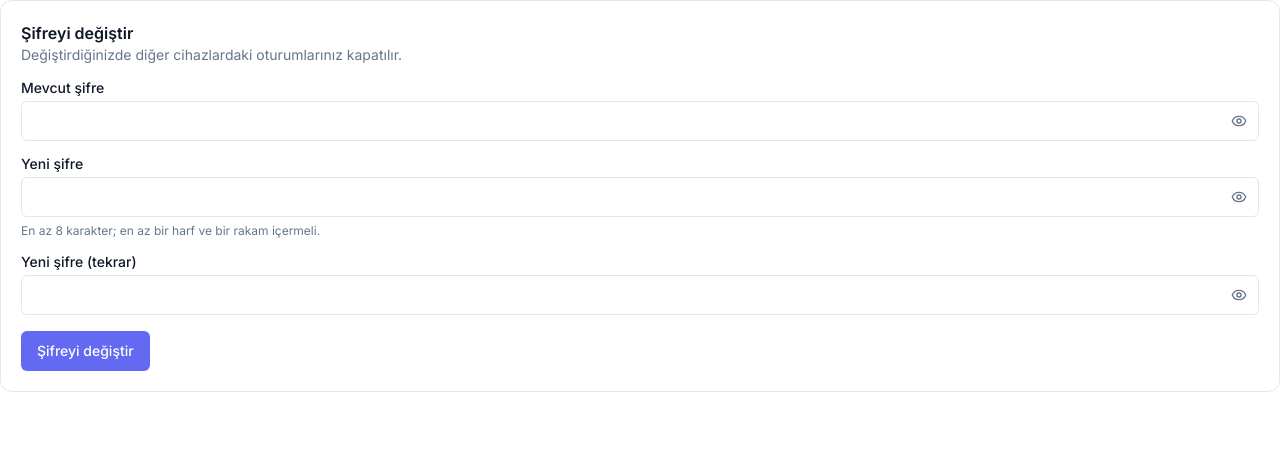
Test case: GV-19: ChangePasswordSection › başarılı gönderim → doğru argümanlar, başarı mesajı, alanlar temizlenir
Type "Eski1234" into the password field labelled "Mevcut şifre" at (640, 121), box [21,101,1259,141]
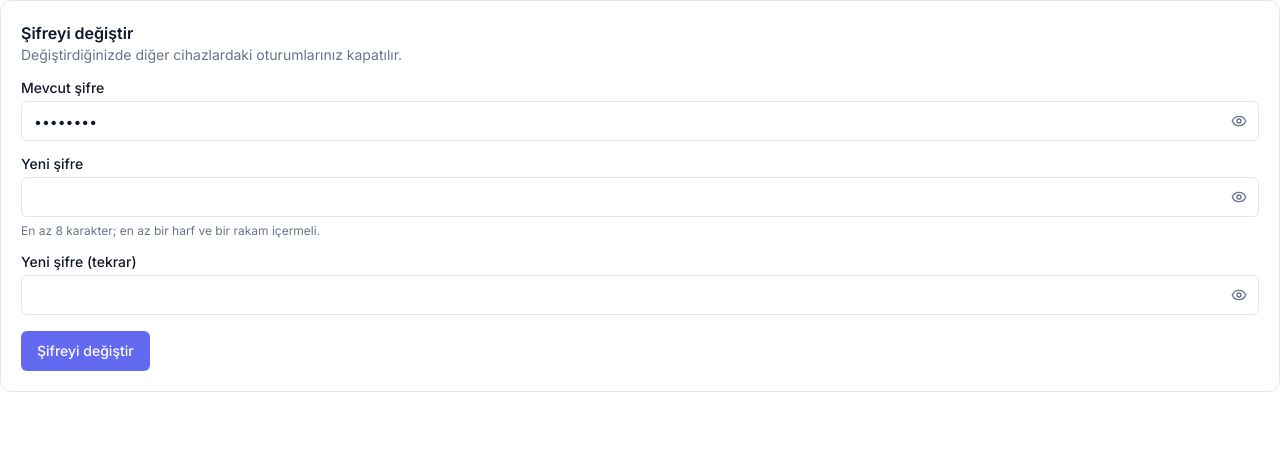
Type "Yeni12345" into the password field labelled "Yeni şifre" at (640, 197), box [21,177,1259,217]
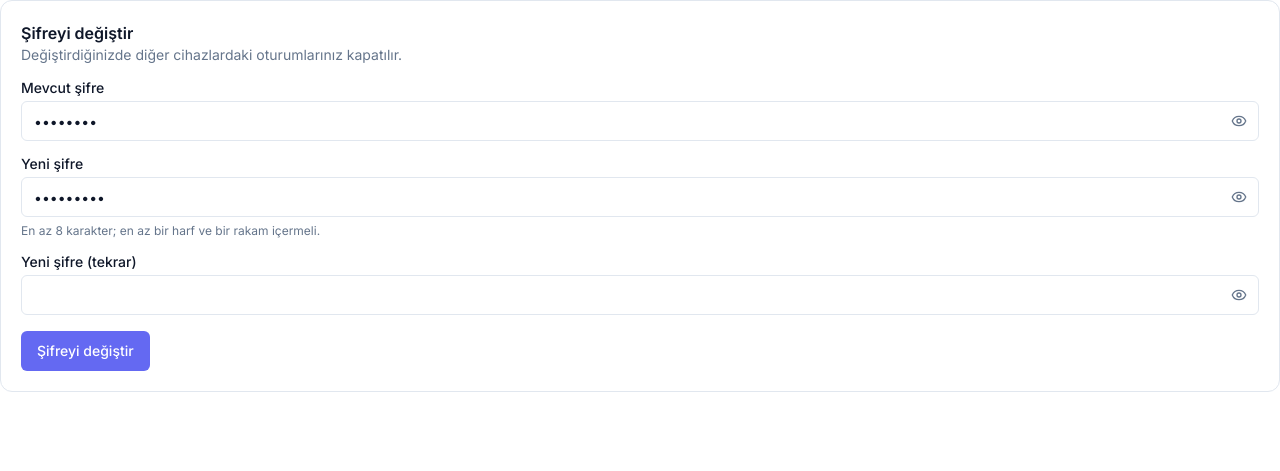
Type "Yeni12345" into the password field labelled "Yeni şifre (tekrar)" at (640, 295), box [21,275,1259,315]
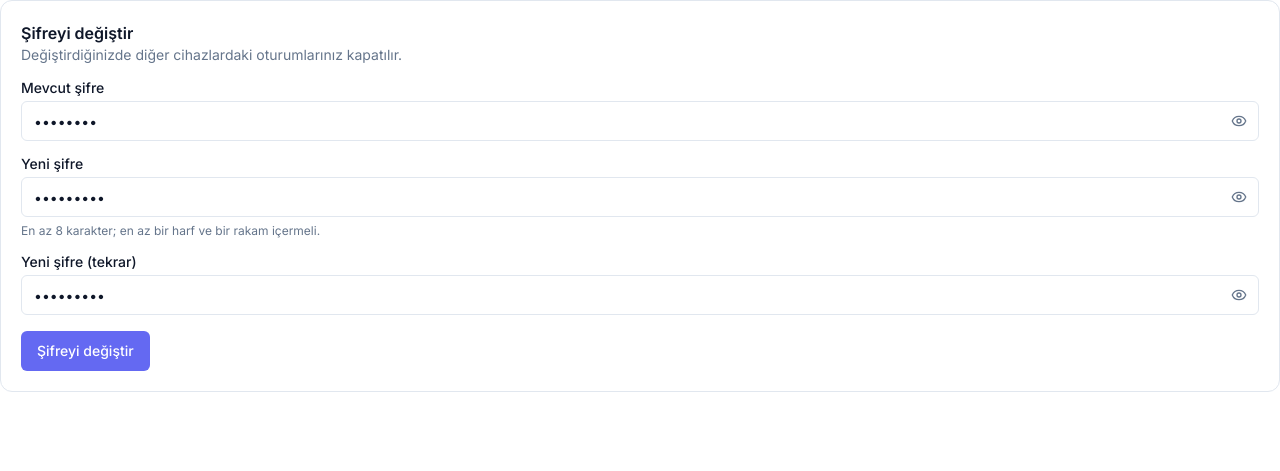
Click the button "Şifreyi değiştir" at (85, 351), box [21,331,150,371]
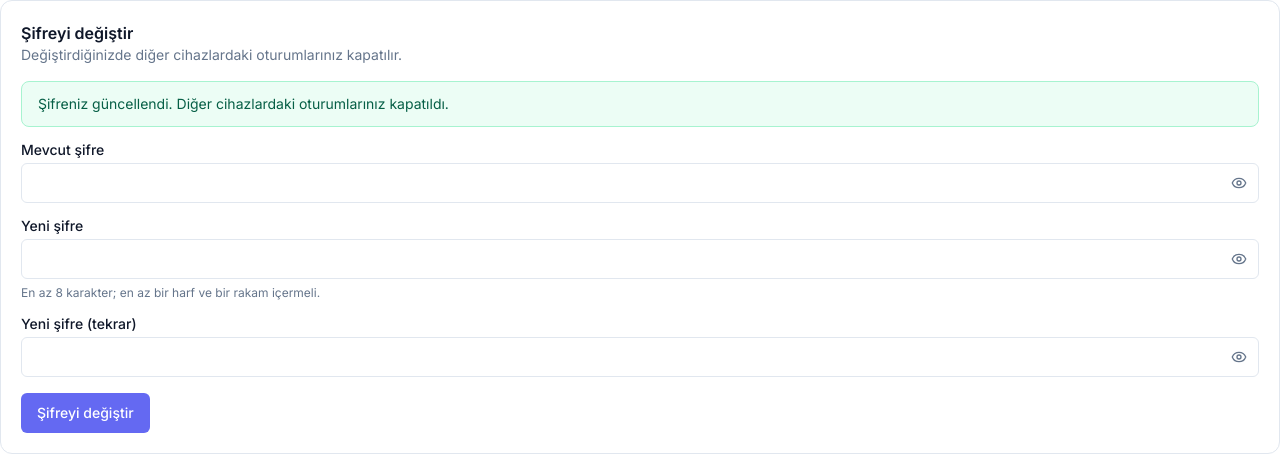
Check: the text "Şifreniz güncellendi. Diğer cihazlardaki oturumlarınız kapatıldı." is shown, box [21,81,1259,127]
Check: the password field labelled "Mevcut şifre" is empty, box [21,163,1259,203]
Check: the password field labelled "Yeni şifre" is empty, box [21,239,1259,279]
